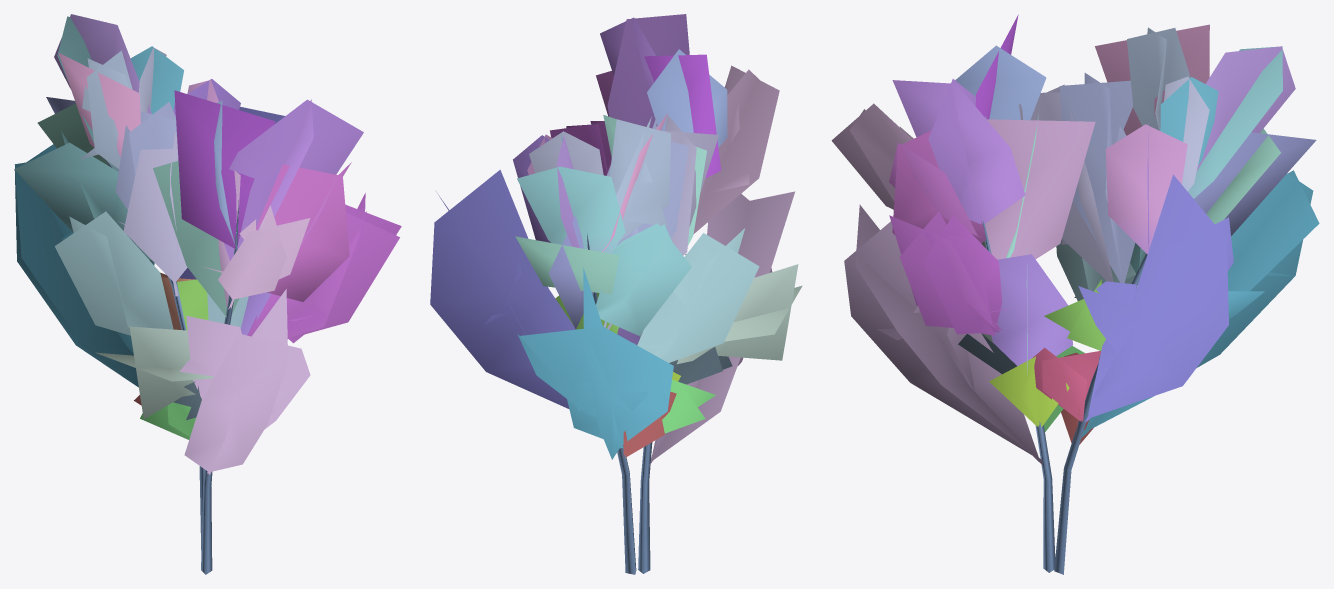
3 renders of one model, left to right at view 1: azimuth 30°, elevation 25°; view 2: azimuth 150°, elevation 25°; view 3: azimuth 270°, elevation 25°, orthographic. The views are drawn at different scales.
Visible parts, largest first — view 1: SM_BS_Oleander_80cm_HD; view 2: SM_BS_Oleander_80cm_HD; view 3: SM_BS_Oleander_80cm_HD.
Part boxes in pixels (x1,y1,x2,y2): SM_BS_Oleander_80cm_HD: [14, 14, 401, 574]; SM_BS_Oleander_80cm_HD: [430, 14, 802, 574]; SM_BS_Oleander_80cm_HD: [831, 14, 1319, 574].
Bounding box in the file's own units: 31.6 × 22.18 × 38.01.
